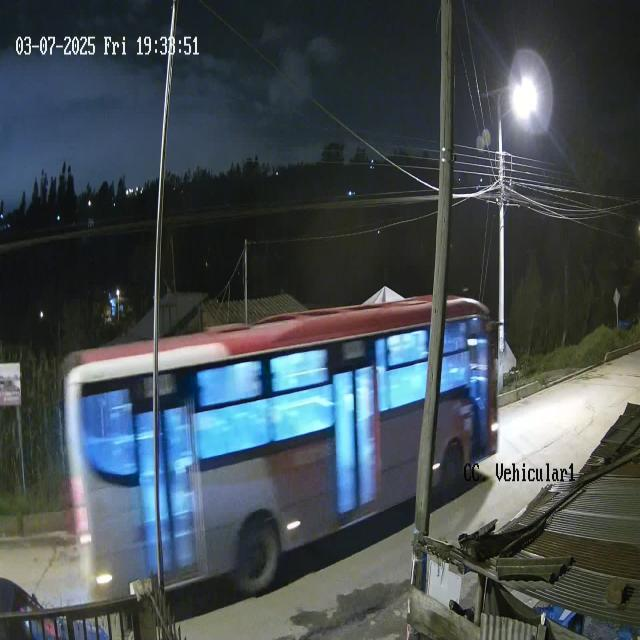BUS: (68, 294, 498, 610)
